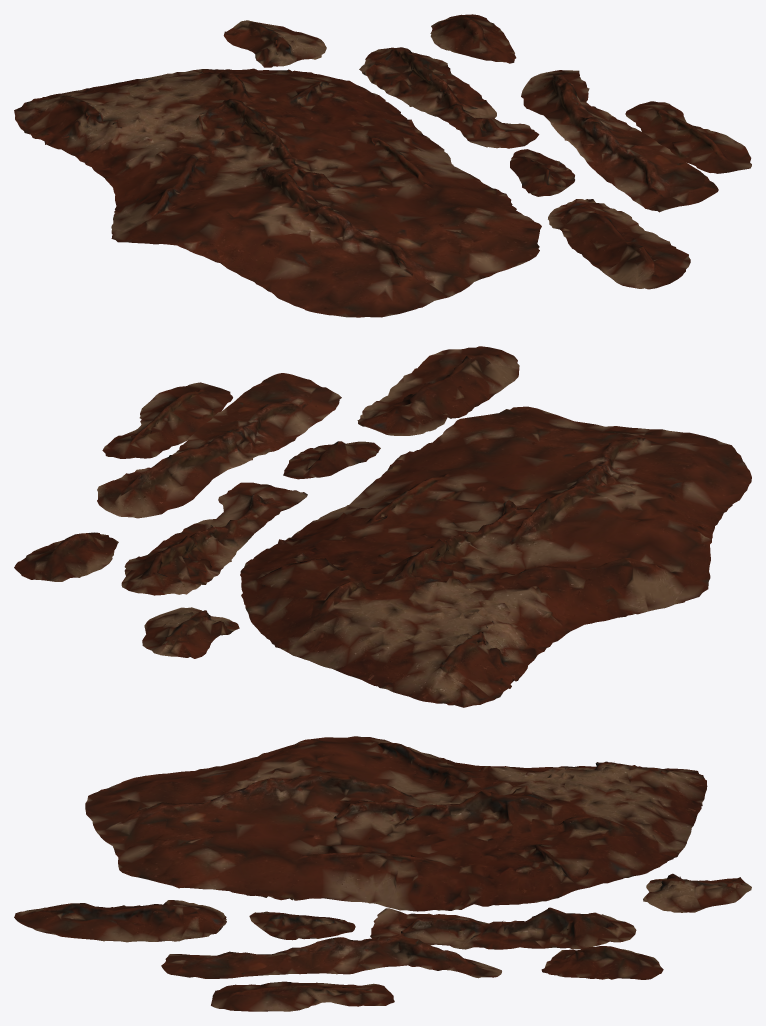
The model's file is ph_root_cluster_02.glb.
The picture shows the model from 3 angles, top to bottom: view 1: azimuth 30°, elevation 25°; view 2: azimuth 150°, elevation 25°; view 3: azimuth 270°, elevation 25°; orthographic projection. The views are drawn at different scales.
Parts seen in each view (by area): view 1: root_cluster_02_d; view 2: root_cluster_02_d; view 3: root_cluster_02_d.
Boxes of the visible parts, left/top/right/bottom form: root_cluster_02_d: left=14, top=14, right=751, bottom=317; root_cluster_02_d: left=14, top=346, right=751, bottom=707; root_cluster_02_d: left=14, top=736, right=751, bottom=1011.
Size of the model in its own units: 2.38 by 0.1971 by 2.7.
Materials: 1 (1 with a texture image).
